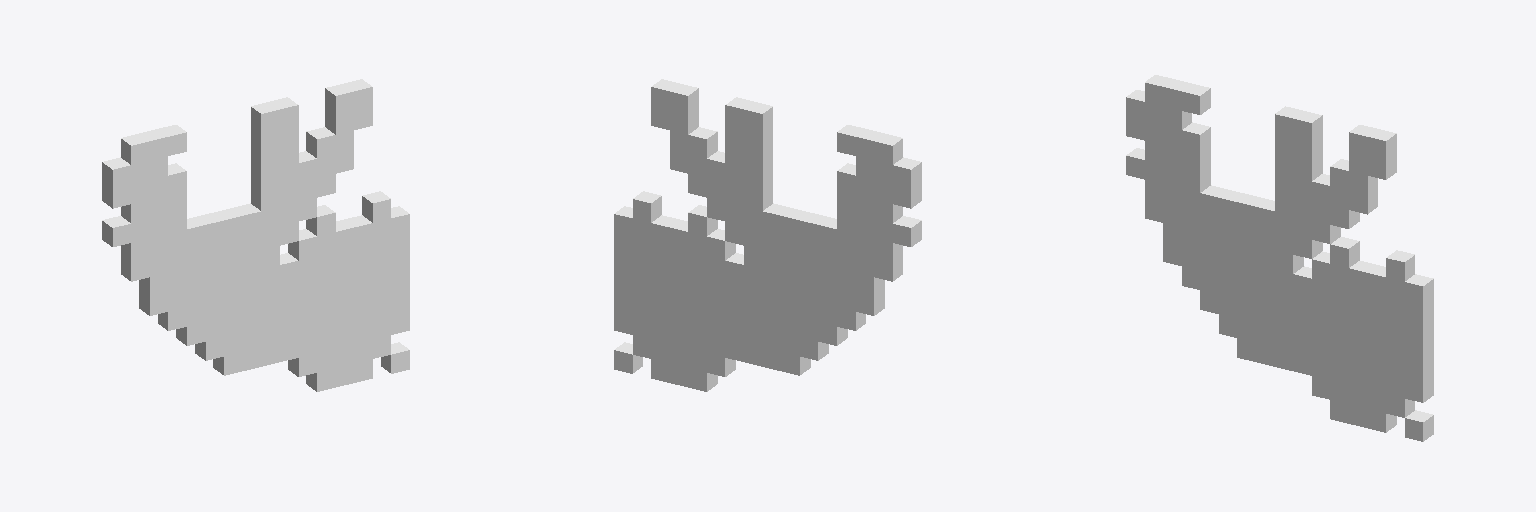
The model's file is Crawl1.obj.
The picture shows the model from 3 angles: view 1: azimuth 30°, elevation 25°; view 2: azimuth 150°, elevation 25°; view 3: azimuth 330°, elevation 25°; orthographic projection.
Visible parts, largest first — view 1: object 1; view 2: object 1; view 3: object 1.
Part boxes in pixels (bbox=[...]): object 1: bbox=[102, 79, 409, 391]; object 1: bbox=[614, 79, 921, 391]; object 1: bbox=[1126, 75, 1433, 441].
Bounding box in the file's own units: 1.6 × 1.5 × 0.1.